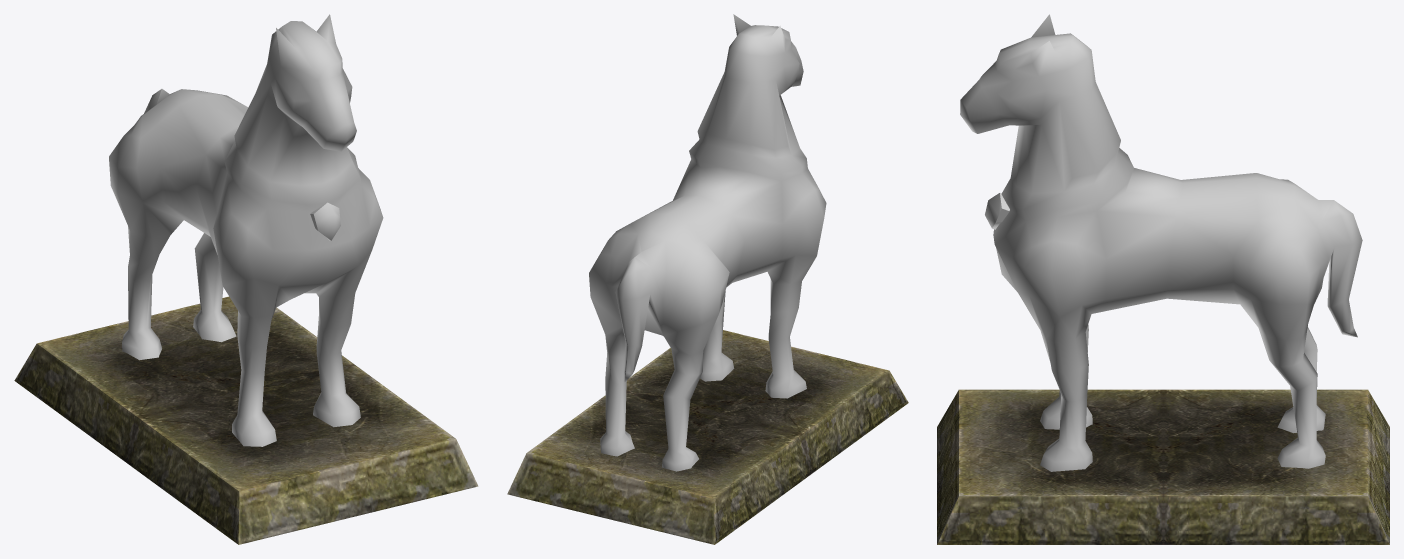
Rendered from shima_ly_60.FBX.
3 views of the same model, side by side, from view 1: azimuth 30°, elevation 25°; view 2: azimuth 150°, elevation 25°; view 3: azimuth 270°, elevation 25° (orthographic). The views are drawn at different scales.
Parts seen in each view (by area): view 1: shima_ly_60_zhuti, shima_ly_60_dizuo; view 2: shima_ly_60_zhuti, shima_ly_60_dizuo; view 3: shima_ly_60_zhuti, shima_ly_60_dizuo.
Part boxes in pixels (bbox=[...]): shima_ly_60_zhuti: bbox=[109, 14, 383, 446]; shima_ly_60_dizuo: bbox=[14, 296, 478, 544]; shima_ly_60_zhuti: bbox=[589, 14, 826, 471]; shima_ly_60_dizuo: bbox=[507, 330, 908, 544]; shima_ly_60_zhuti: bbox=[960, 14, 1362, 471]; shima_ly_60_dizuo: bbox=[937, 389, 1389, 544].
Size of what is drawn, in the model's own units: 209 by 379 by 339.
